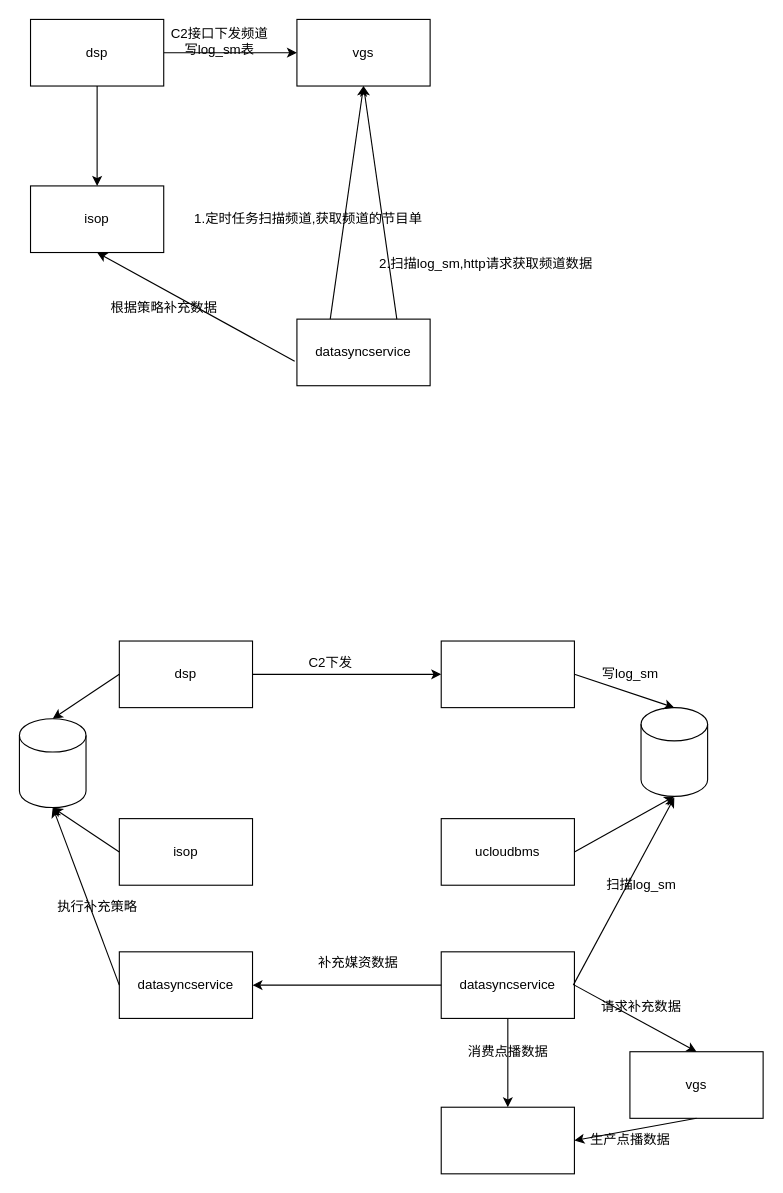
Image size: 783x1193. Some labels were removed from this diagram. Here are the shapes that lost their labels. From the top down, the centre of each, then its label:
At (x=507, y=674): "ucloudadapter".
At (x=52, y=763): "oracle".
At (x=674, y=751): "mysql".
At (x=507, y=1140): "rabbitmq".
